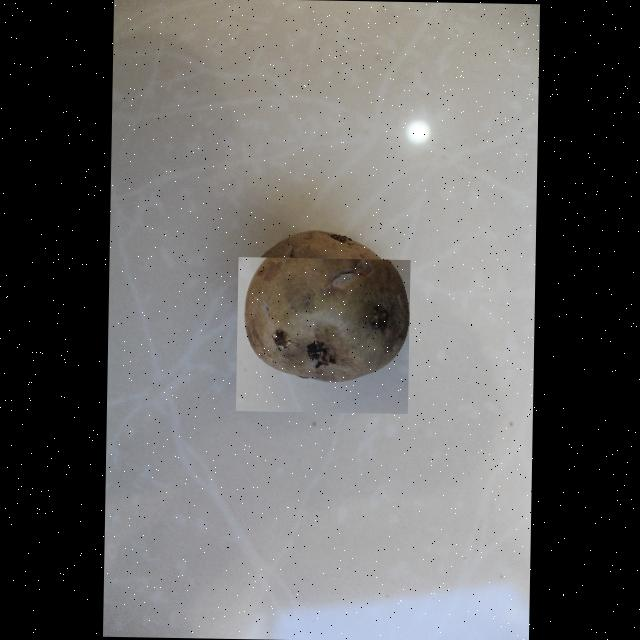Diseased-fungal potato: (234, 256, 409, 414)
